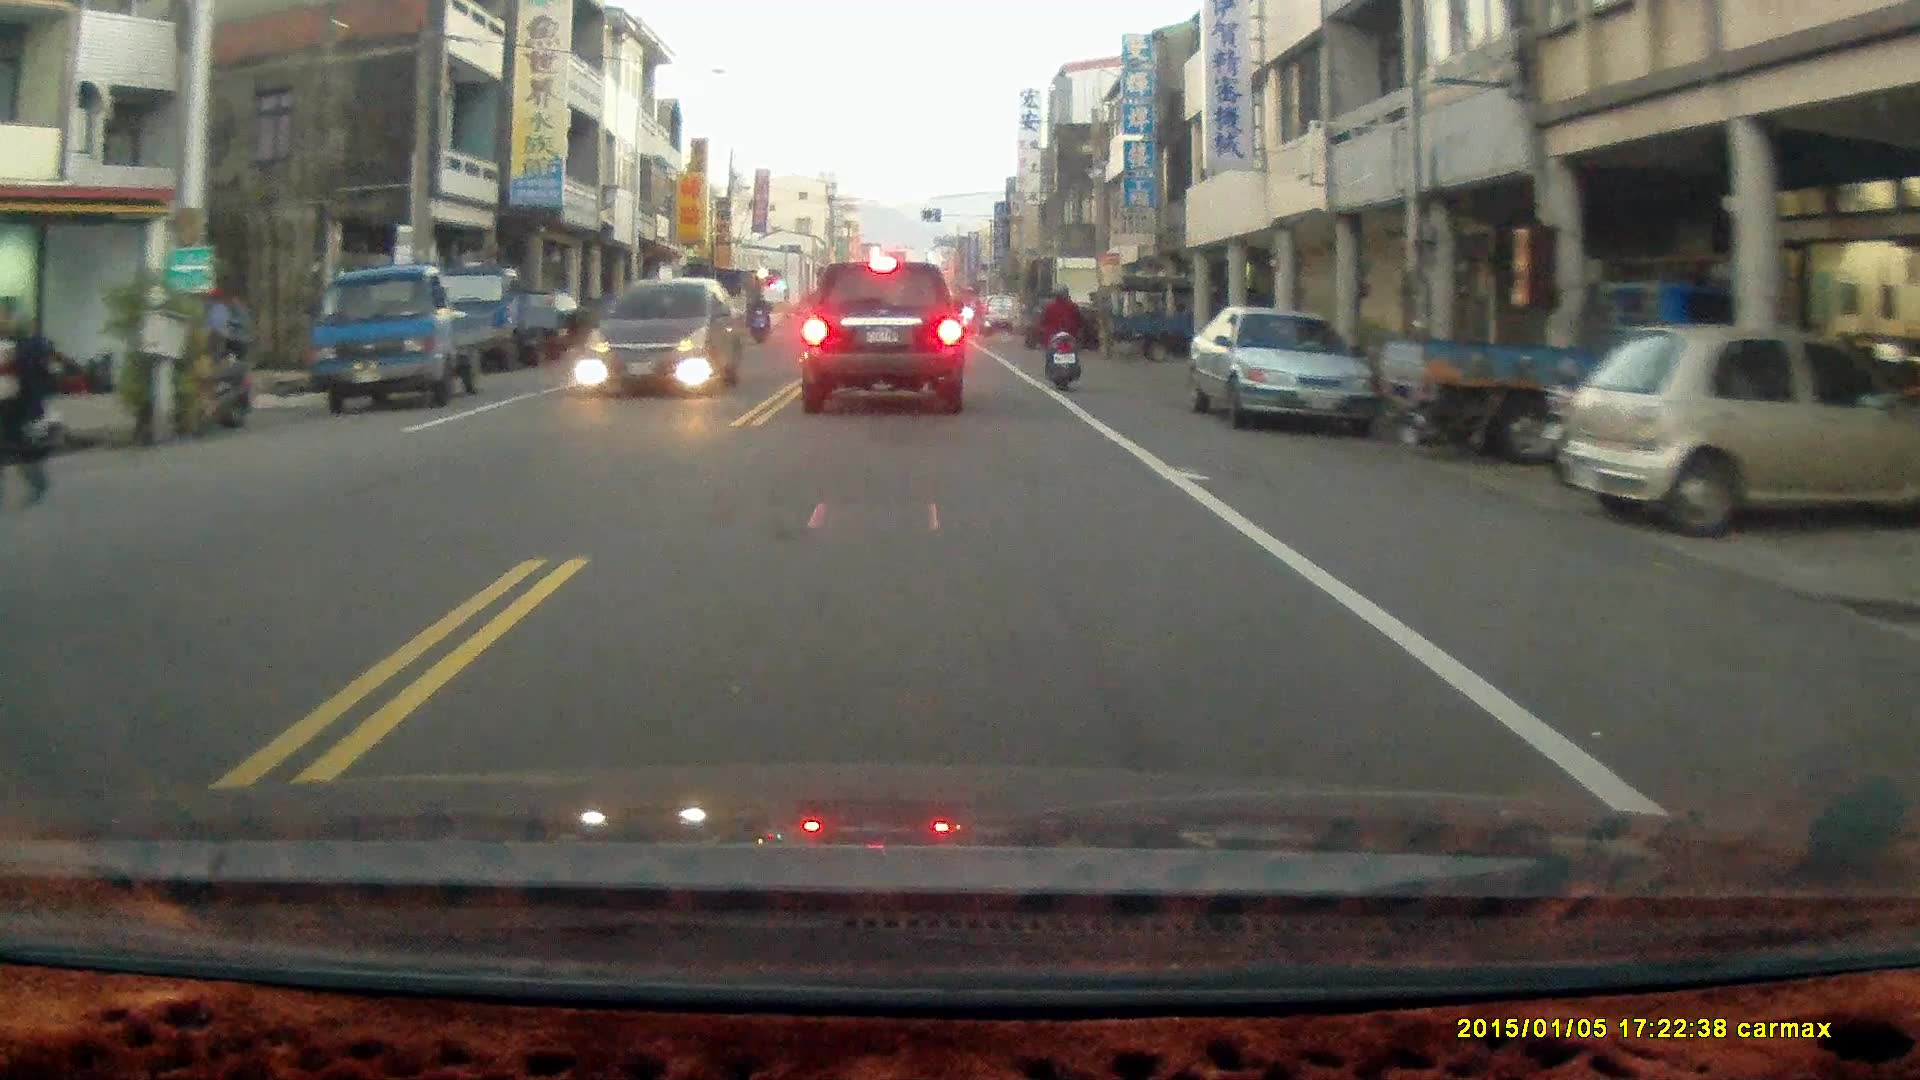pedestrian: (0, 294, 54, 512), (200, 286, 228, 388), (226, 290, 254, 382)
rider: (1038, 281, 1083, 391), (963, 296, 995, 337), (745, 294, 772, 345)
vehicle: (1559, 321, 1920, 542), (1411, 275, 1749, 463), (795, 256, 968, 420), (315, 265, 499, 417), (1189, 309, 1380, 434), (588, 279, 742, 401), (420, 262, 572, 378), (1112, 273, 1263, 359)
